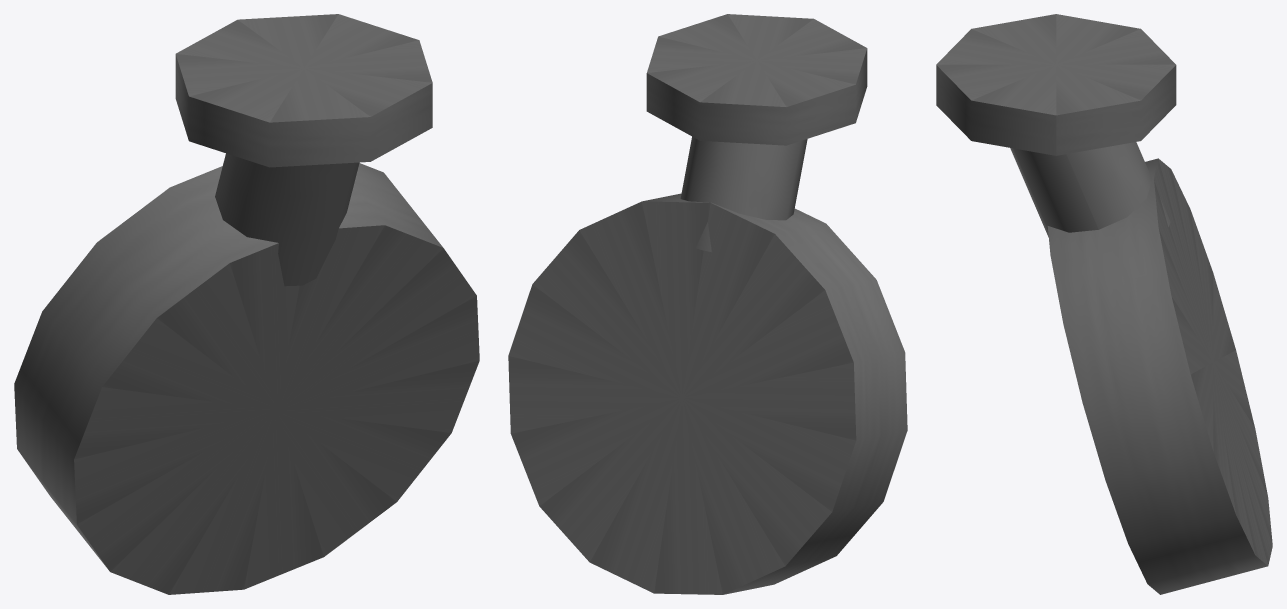
File: mastarmcurve_10x2_c3_up.obj
3 views of the same model, side by side, from view 1: azimuth 30°, elevation 25°; view 2: azimuth 150°, elevation 25°; view 3: azimuth 270°, elevation 25° (orthographic). The views are drawn at different scales.
Parts seen in each view (by area): view 1: mastarm_10x2_c3_up; view 2: mastarm_10x2_c3_up; view 3: mastarm_10x2_c3_up.
Part boxes in pixels (bbox=[...]): mastarm_10x2_c3_up: bbox=[14, 14, 479, 594]; mastarm_10x2_c3_up: bbox=[508, 14, 907, 594]; mastarm_10x2_c3_up: bbox=[936, 14, 1272, 594].
Bounding box in the file's own units: 0.7041 × 0.9376 × 0.5609.
